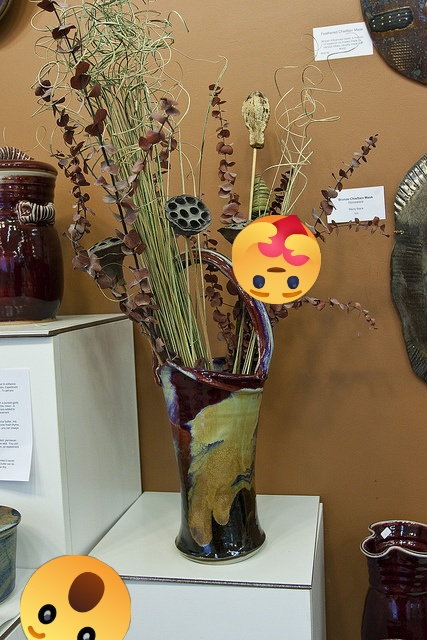care: (232, 215, 321, 304)
wow: (20, 555, 131, 640)
